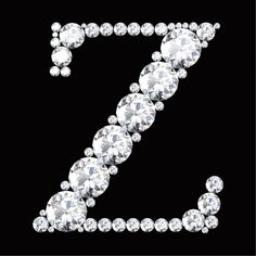z: (28, 18, 230, 238)
